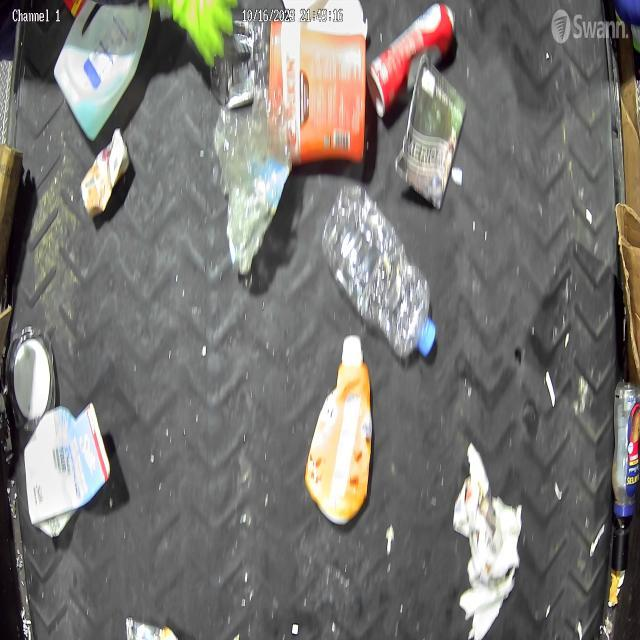can: (392, 51, 466, 213), (366, 0, 458, 120), (76, 125, 132, 221)
milk_jug: (50, 0, 152, 145)
non_white_jug: (268, 18, 368, 167), (304, 332, 374, 528)
plastic_bottle: (322, 176, 439, 363), (215, 76, 292, 276), (610, 378, 640, 519)
